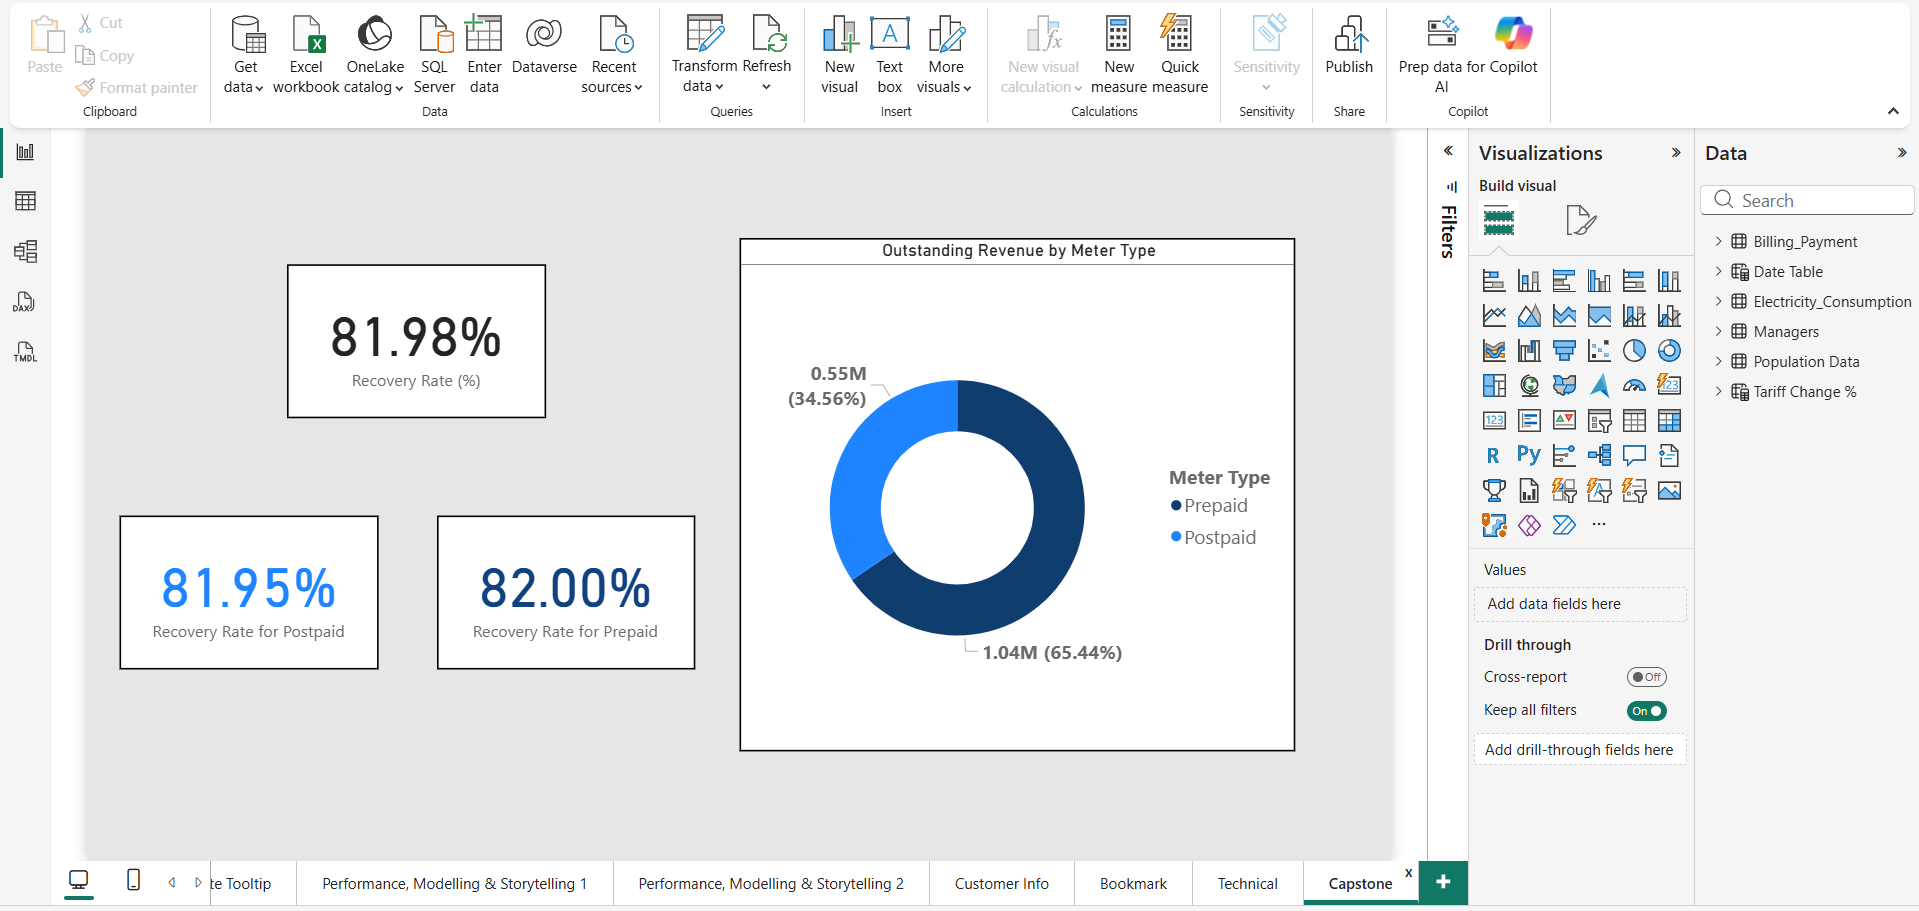

What the dashboard file says about the page in this screenshot:
{"tool":"powerbi","page":{"name":"Capstone","canvas":[1280,720],"ordinal":8},"visuals":[{"type":"donutChart","fields":{"Category":["Electricity_Consumption.Meter Type"],"Y":["Electricity_Consumption.Outstanding Revenue"]},"box":[640.1,107.8,545.8,504],"z":0},{"type":"card","fields":{"Values":["Billing_Payment.Recovery Rate (%)"]},"box":[196.8,133.4,254.7,150.9],"z":1000},{"type":"card","fields":{"Values":["Billing_Payment.Recovery Rate for Postpaid"]},"box":[32.3,380,254.7,150.9],"z":2000},{"type":"card","fields":{"Values":["Billing_Payment.Recovery Rate for Prepaid"]},"box":[343.7,380,253.4,150.9],"z":3000}]}

Visuals, with their boxes on the page's 1280x720 design canvas (x1, y1, x2, y2). These are canvas units, not pixel positions in the 1919x911 screenshot, which may show the page scaled, cropped or inside an application window:
donutChart - Electricity_Consumption.Meter Type x Electricity_Consumption.Outstanding Revenue: [640,108,1186,612]
card - Billing_Payment.Recovery Rate (%): [197,133,452,284]
card - Billing_Payment.Recovery Rate for Postpaid: [32,380,287,531]
card - Billing_Payment.Recovery Rate for Prepaid: [344,380,597,531]
